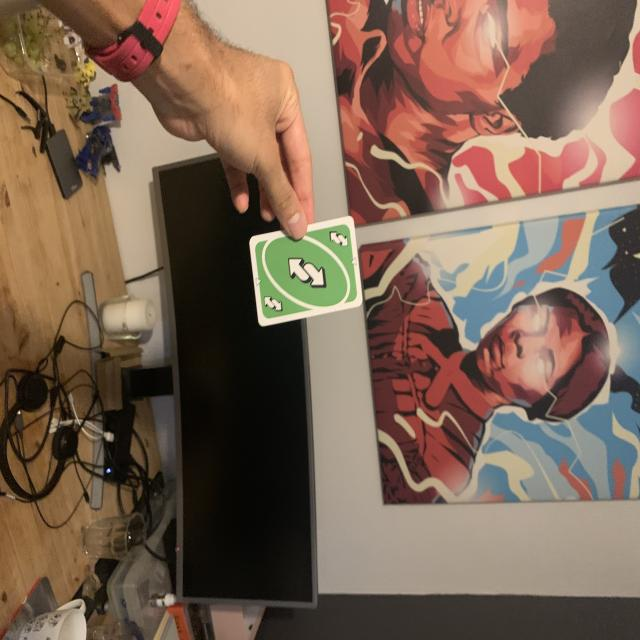lgreenrevers-20: (326, 228, 352, 254)
